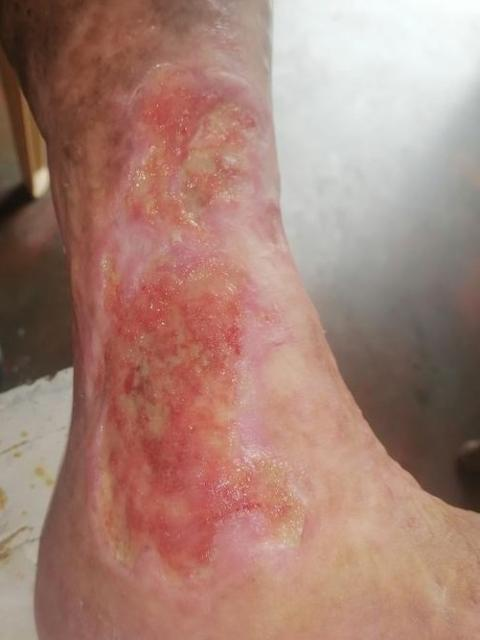wound: (93, 253, 308, 591), (126, 68, 268, 239)
